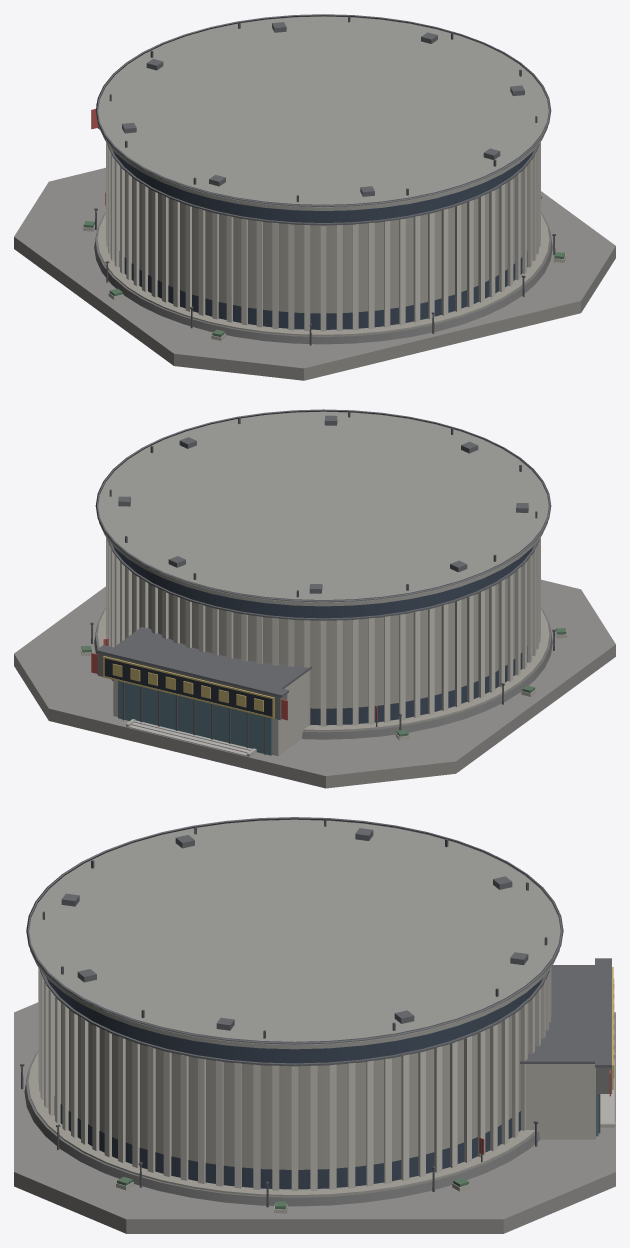
The model's file is msg.glb.
The picture shows the model from 3 angles, top to bottom: view 1: azimuth 30°, elevation 25°; view 2: azimuth 150°, elevation 25°; view 3: azimuth 270°, elevation 25°; orthographic projection. The views are drawn at different scales.
Visible parts, largest first — view 1: msg; view 2: msg; view 3: msg.
Part boxes in pixels (box(x1,y1,x2,y2)): msg: box(14, 14, 615, 380); msg: box(14, 409, 615, 788); msg: box(14, 817, 615, 1233).
Bounding box in the file's own units: 150 × 50 × 150.
